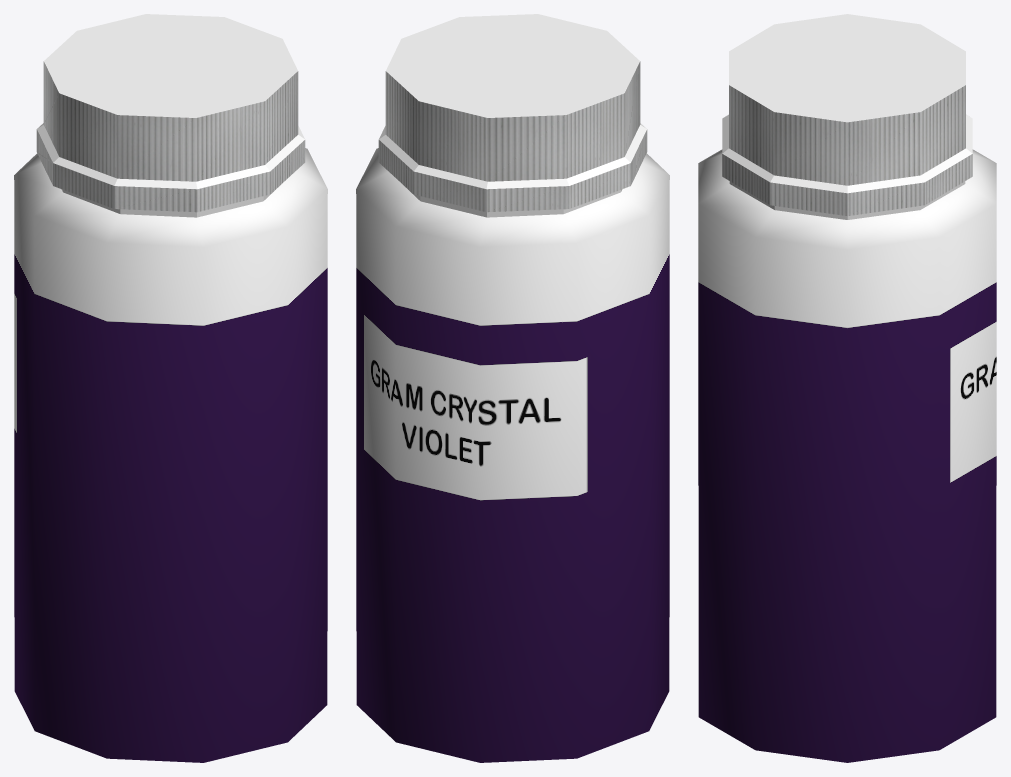
Rendered from cyrstal violet.FBX.
The picture shows the model from 3 angles, left to right: view 1: azimuth 30°, elevation 25°; view 2: azimuth 150°, elevation 25°; view 3: azimuth 270°, elevation 25°; orthographic projection.
Visible parts, largest first — view 1: DIO water bottle, bottle cap; view 2: DIO water bottle, bottle cap; view 3: DIO water bottle, bottle cap.
Part boxes in pixels (x1,y1,x2,y2): DIO water bottle: (14,148,327,762); bottle cap: (36,14,305,212); DIO water bottle: (356,148,669,762); bottle cap: (378,14,647,212); DIO water bottle: (698,149,996,762); bottle cap: (722,14,972,216).
Size of the model in its own units: 5.03 by 11.12 by 4.78.
3 materials, 2 textured.
